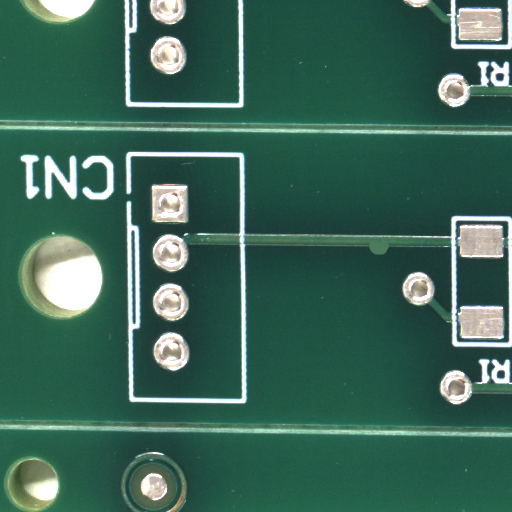Spur: (378, 249, 401, 261)
